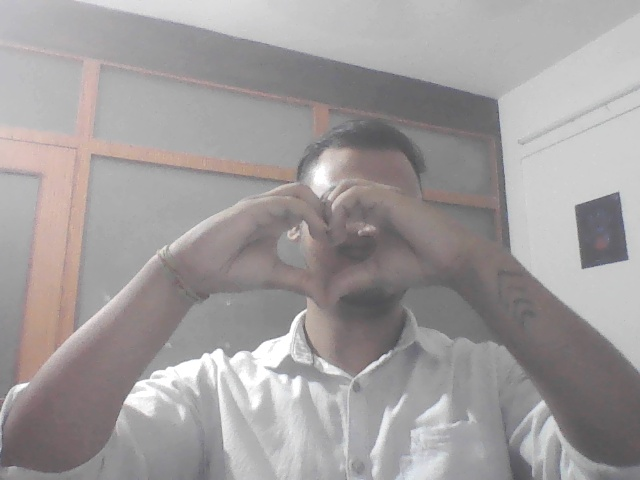Heart: (209, 180, 432, 299)
